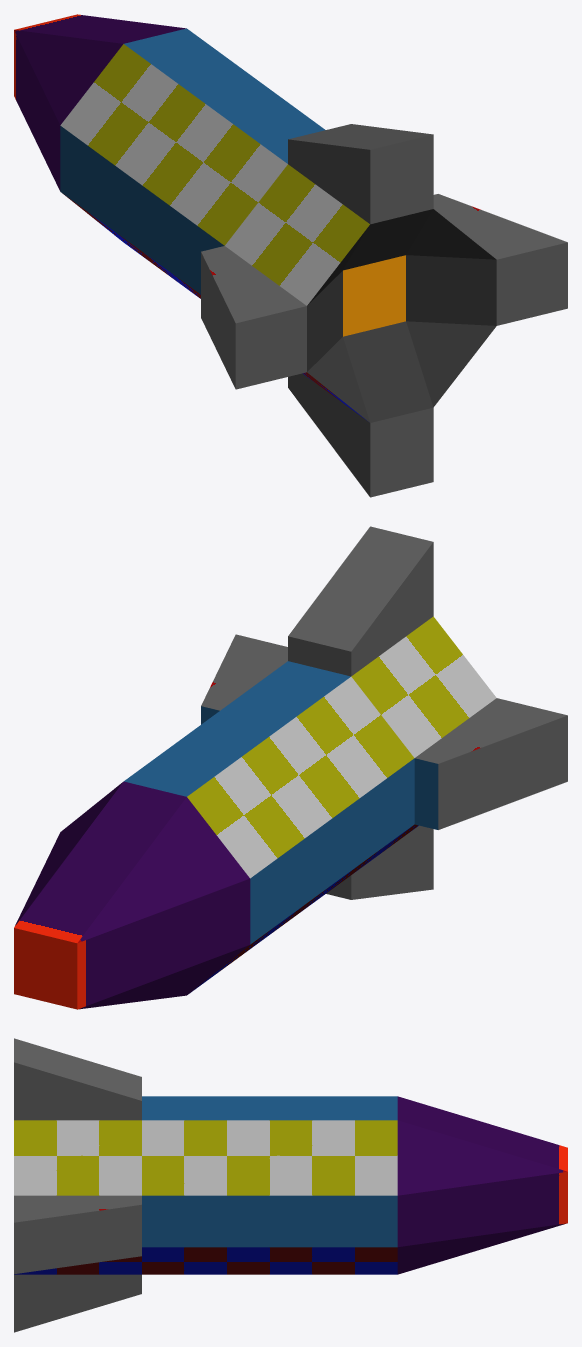
The model's file is PlayerRocket.fbx.
3 renders of one model, top to bottom at view 1: azimuth 30°, elevation 25°; view 2: azimuth 150°, elevation 25°; view 3: azimuth 270°, elevation 25°, orthographic. The views are drawn at different scales.
Parts seen in each view (by area): view 1: cuboid; view 2: cuboid; view 3: cuboid.
Part boxes in pixels (x1,y1,x2,y2): cuboid: (14, 14, 567, 497); cuboid: (14, 526, 567, 1009); cuboid: (14, 1038, 567, 1332).
Bounding box in the file's own units: 43.75 × 43.75 × 81.25.
1 material, 1 textured.
